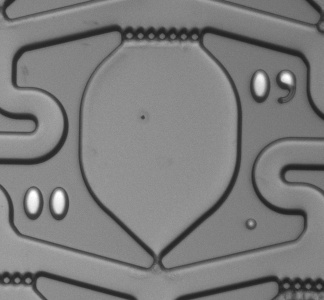AptNum: (243, 64, 303, 112)
Marker: (240, 213, 262, 234)
StNum: (16, 179, 80, 230)
Trap: (129, 257, 186, 300)
